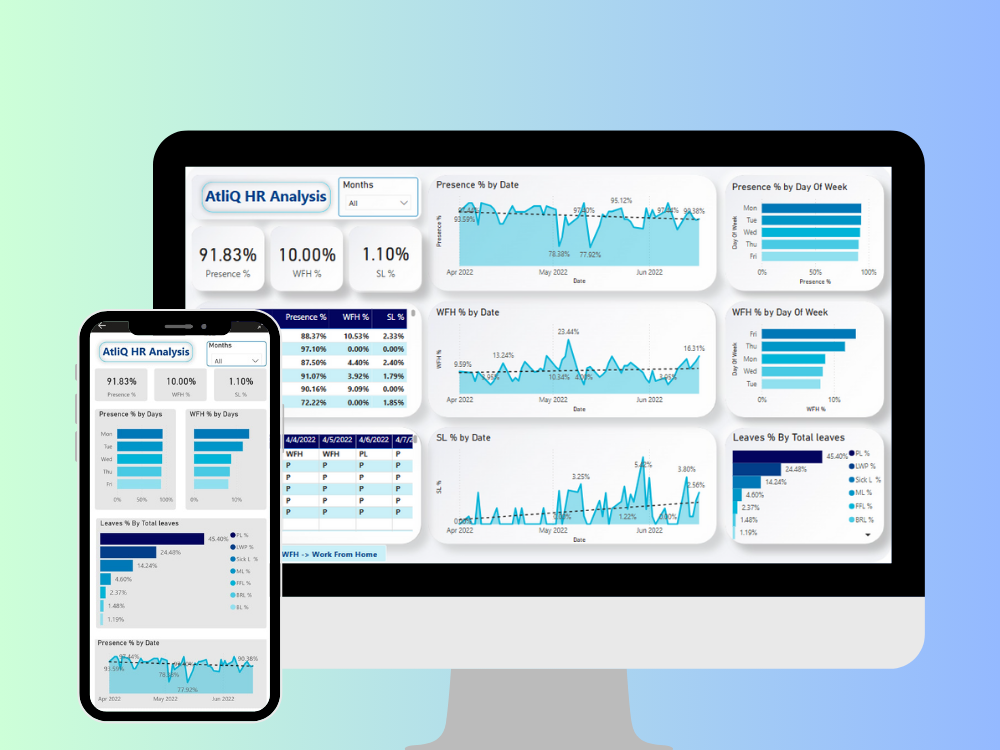

What the dashboard file says about the page in this screenshot:
{"tool":"powerbi","page":{"name":"Report","canvas":[1280,720],"ordinal":0},"visuals":[{"type":"slicer","title":"Months","fields":{"Values":["Final Data.Month"]},"box":[276.2,23.8,144,71.4],"z":0},{"type":"card","fields":{"Values":["Measure Table.Presence %"]},"box":[15.5,121.4,123.8,97.6],"z":1000},{"type":"card","fields":{"Values":["Measure Table.WFH %"]},"box":[158.3,121.4,123.8,97.6],"z":2000},{"type":"card","fields":{"Values":["Measure Table.SL %"]},"box":[300,121.4,123.8,96.4],"z":3000},{"type":"clusteredBarChart","title":"Leaves % By Total leaves ","fields":{"Y":["Measure Table.PL %","Measure Table.LWP %","Measure Table.Sick L  %","Measure Table.ML %","Measure Table.FFL %","Measure Table.BRL %","Measure Table.BL %"]},"box":[983.3,482.1,286.9,198.8],"z":4000},{"type":"tableEx","fields":{"Values":["Final Data.Employee Code","Measure Table.Presence %","Measure Table.WFH %","Measure Table.SL %"]},"box":[21.4,256,398.8,188.1],"z":5000},{"type":"pivotTable","fields":{"Rows":["Final Data.Employee Code"],"Values":["Min(Final Data.Value)"],"Columns":["Final Data.Date"]},"box":[20.2,482.1,403.6,194],"z":6000},{"type":"areaChart","fields":{"Y":["Measure Table.Presence %"],"Category":["Final Data.Date"]},"box":[447.6,26.2,508.3,195.2],"z":7000},{"type":"areaChart","fields":{"Category":["Final Data.Date"],"Y":["Measure Table.SL %"]},"box":[447.6,482.1,508.3,206],"z":8000},{"type":"areaChart","fields":{"Category":["Final Data.Date"],"Y":["Measure Table.WFH %"]},"box":[447.6,256,508.3,196.4],"z":9000},{"type":"clusteredBarChart","fields":{"Category":["Final Data.Day Of Week"],"Y":["Measure Table.Presence %"]},"box":[981,29.8,271.4,191.7],"z":10000},{"type":"clusteredBarChart","fields":{"Category":["Final Data.Day Of Week"],"Y":["Measure Table.WFH %"]},"box":[981,256,271.4,196.4],"z":11000},{"type":"textbox","box":[26.2,685.7,336.9,31],"z":13000},{"type":"shape","box":[21.4,23.8,248.8,71.4],"z":14000}]}

Visuals, with their boxes on the page's 1280x720 design canvas (x1, y1, x2, y2). These are canvas units, not pixel positions in the 1000x750 screenshot, which may show the page scaled, cropped or inside an application window:
"Months" slicer: {"left": 276, "top": 24, "right": 420, "bottom": 95}
card - Measure Table.Presence %: {"left": 16, "top": 121, "right": 139, "bottom": 219}
card - Measure Table.WFH %: {"left": 158, "top": 121, "right": 282, "bottom": 219}
card - Measure Table.SL %: {"left": 300, "top": 121, "right": 424, "bottom": 218}
"Leaves % By Total leaves " clusteredBarChart: {"left": 983, "top": 482, "right": 1270, "bottom": 681}
tableEx - Final Data.Employee Code x Measure Table.Presence %: {"left": 21, "top": 256, "right": 420, "bottom": 444}
pivotTable - Final Data.Employee Code x Min(Final Data.Value): {"left": 20, "top": 482, "right": 424, "bottom": 676}
areaChart - Measure Table.Presence % x Final Data.Date: {"left": 448, "top": 26, "right": 956, "bottom": 221}
areaChart - Final Data.Date x Measure Table.SL %: {"left": 448, "top": 482, "right": 956, "bottom": 688}
areaChart - Final Data.Date x Measure Table.WFH %: {"left": 448, "top": 256, "right": 956, "bottom": 452}
clusteredBarChart - Final Data.Day Of Week x Measure Table.Presence %: {"left": 981, "top": 30, "right": 1252, "bottom": 222}
clusteredBarChart - Final Data.Day Of Week x Measure Table.WFH %: {"left": 981, "top": 256, "right": 1252, "bottom": 452}
textbox: {"left": 26, "top": 686, "right": 363, "bottom": 717}
shape: {"left": 21, "top": 24, "right": 270, "bottom": 95}
